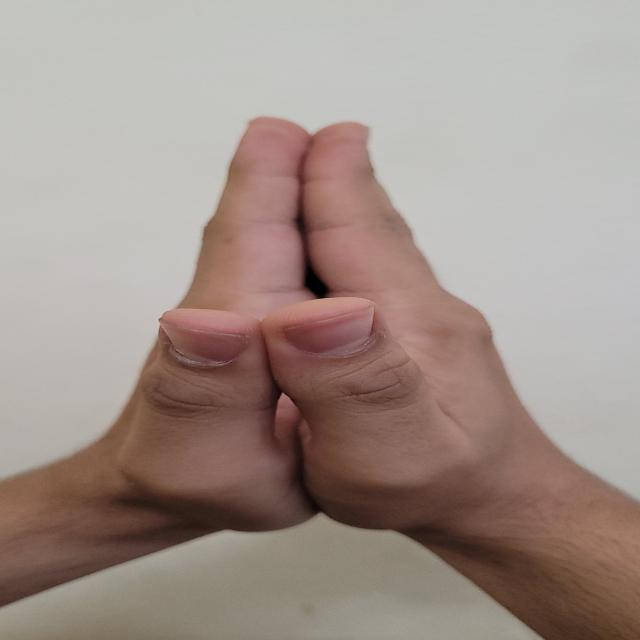Thank You: (29, 89, 620, 595)
